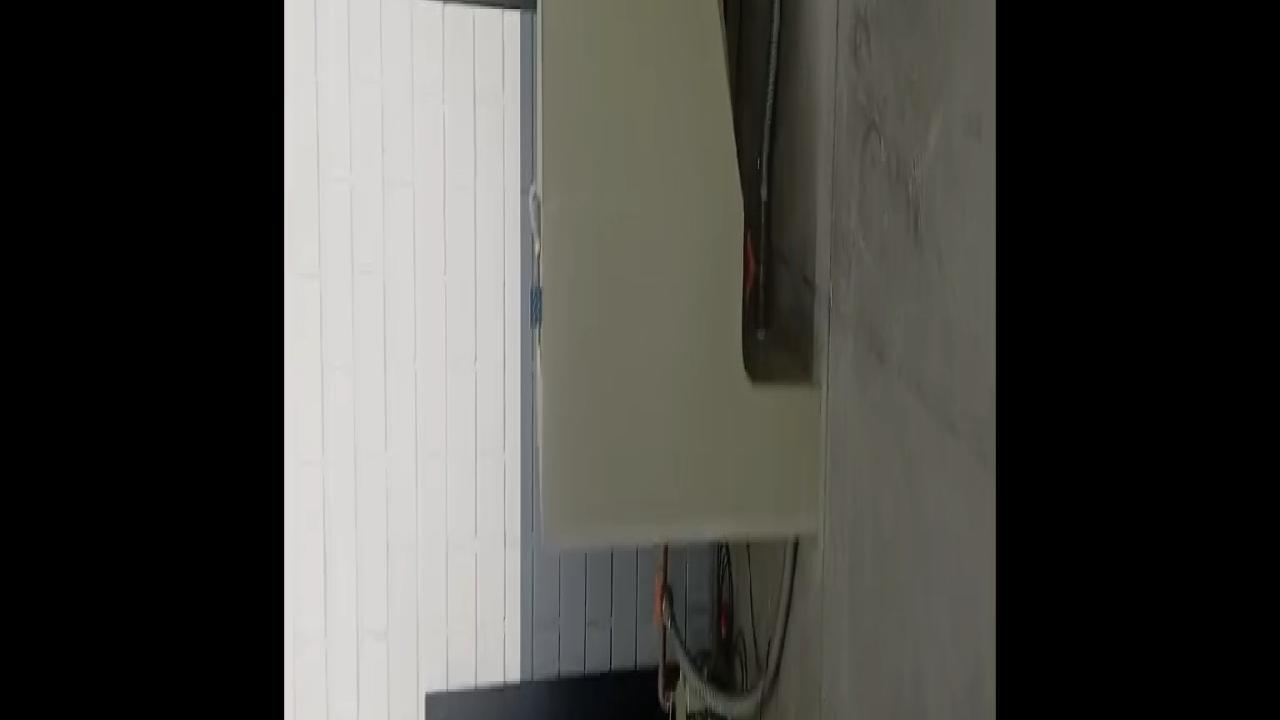Cube: (528, 274, 544, 330)
